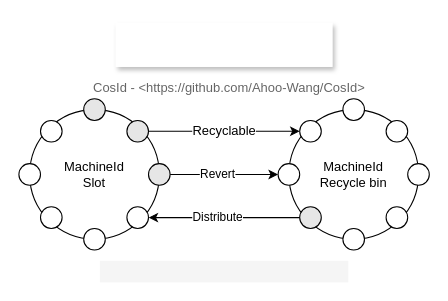
This 448x301 diagram has some shape labels left out. The shapes that lost their labels are listed below. From the top down, each one's centre as x and y in pixels, then its label:
At [225,46]: "CosId - MachineIdDistributor".
At [223,271]: "Recyclable : lastStamp <= safeGuardAt".
